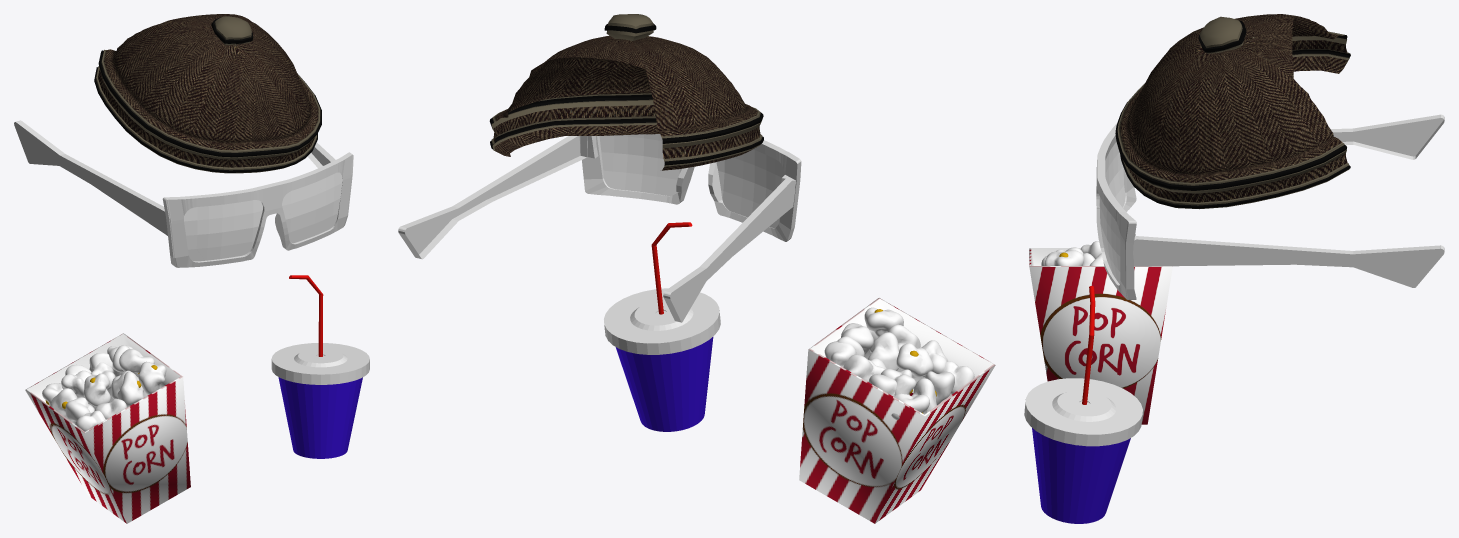
File: cine.glb
The picture shows the model from 3 angles, left to right: view 1: azimuth 30°, elevation 25°; view 2: azimuth 150°, elevation 25°; view 3: azimuth 270°, elevation 25°; orthographic projection. The views are drawn at different scales.
Parts seen in each view (by area): view 1: cap, Plane.004, Cube, Cylinder.005, Popcorn_1_2_2.015; view 2: cap, Cube, Plane.004, Cylinder.005, Popcorn_1_2_2.015; view 3: cap, Plane.004, Cube, Cylinder.005, Popcorn_1_2_2.015.
Boxes of the visible parts, x1,y1,x2,y2 form: cap: [94, 14, 321, 173]; Plane.004: [14, 120, 353, 267]; Cube: [25, 333, 190, 523]; Cylinder.005: [271, 275, 369, 458]; Popcorn_1_2_2.015: [42, 345, 166, 431]; cap: [489, 14, 763, 170]; Cube: [799, 298, 995, 523]; Plane.004: [398, 134, 801, 322]; Cylinder.005: [604, 222, 720, 431]; Popcorn_1_2_2.015: [824, 307, 974, 419]; cap: [1115, 14, 1350, 209]; Plane.004: [1096, 114, 1444, 299]; Cube: [1029, 248, 1172, 424]; Cylinder.005: [1024, 286, 1142, 523]; Popcorn_1_2_2.015: [1041, 241, 1104, 265].
Size of the model in its own units: 2.18 by 2.57 by 1.99.
12 materials, 2 textured.
